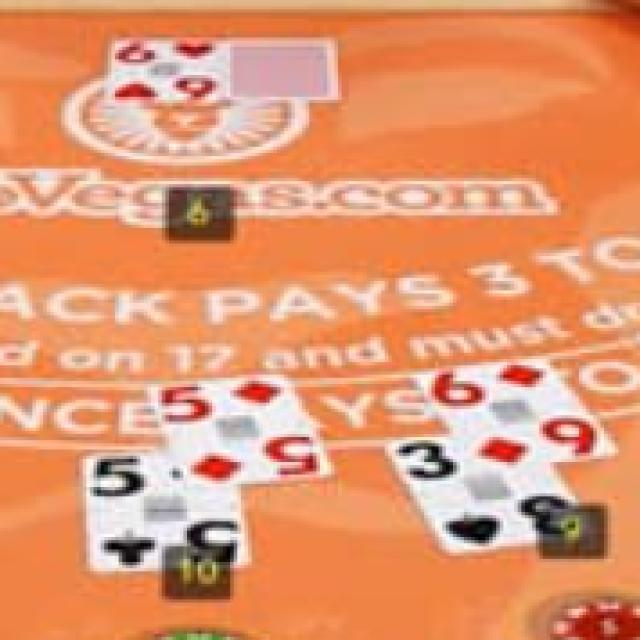Card-3: (386, 435, 593, 556)
Card-5: (145, 369, 335, 486), (82, 451, 250, 570)
Card-6: (415, 354, 619, 474)
